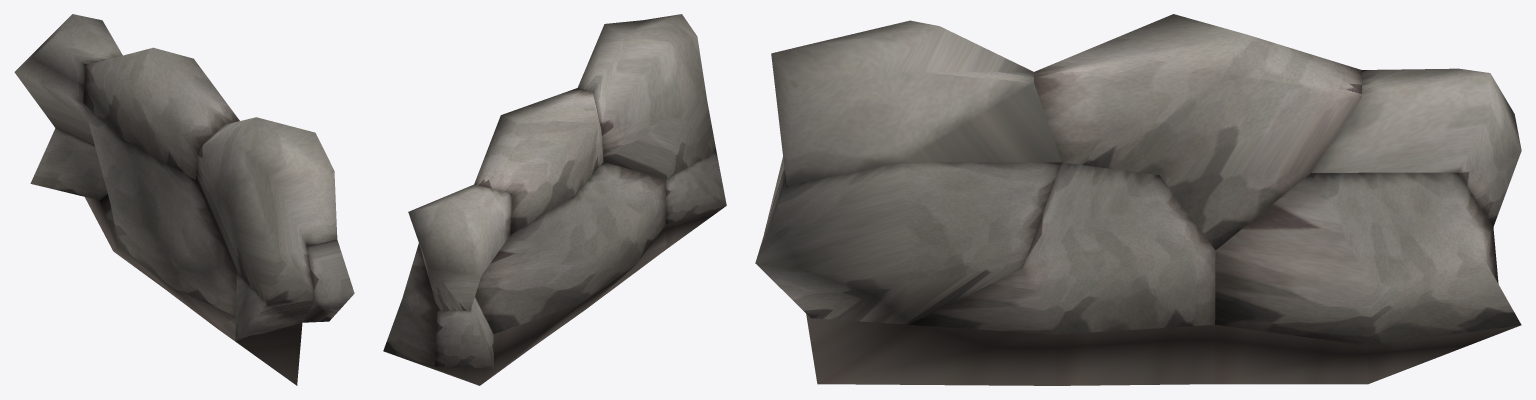
Rendered from rock_wall_plain.DAE.
3 views of the same model, side by side, from view 1: azimuth 30°, elevation 25°; view 2: azimuth 150°, elevation 25°; view 3: azimuth 270°, elevation 25° (orthographic). The views are drawn at different scales.
Parts seen in each view (by area): view 1: Box01; view 2: Box01; view 3: Box01.
Boxes of the visible parts, x1,y1,x2,y2 form: Box01: [14, 14, 354, 385]; Box01: [383, 14, 726, 385]; Box01: [755, 14, 1521, 385].
Bounding box in the file's own units: 8.08 × 14.95 × 28.86.
